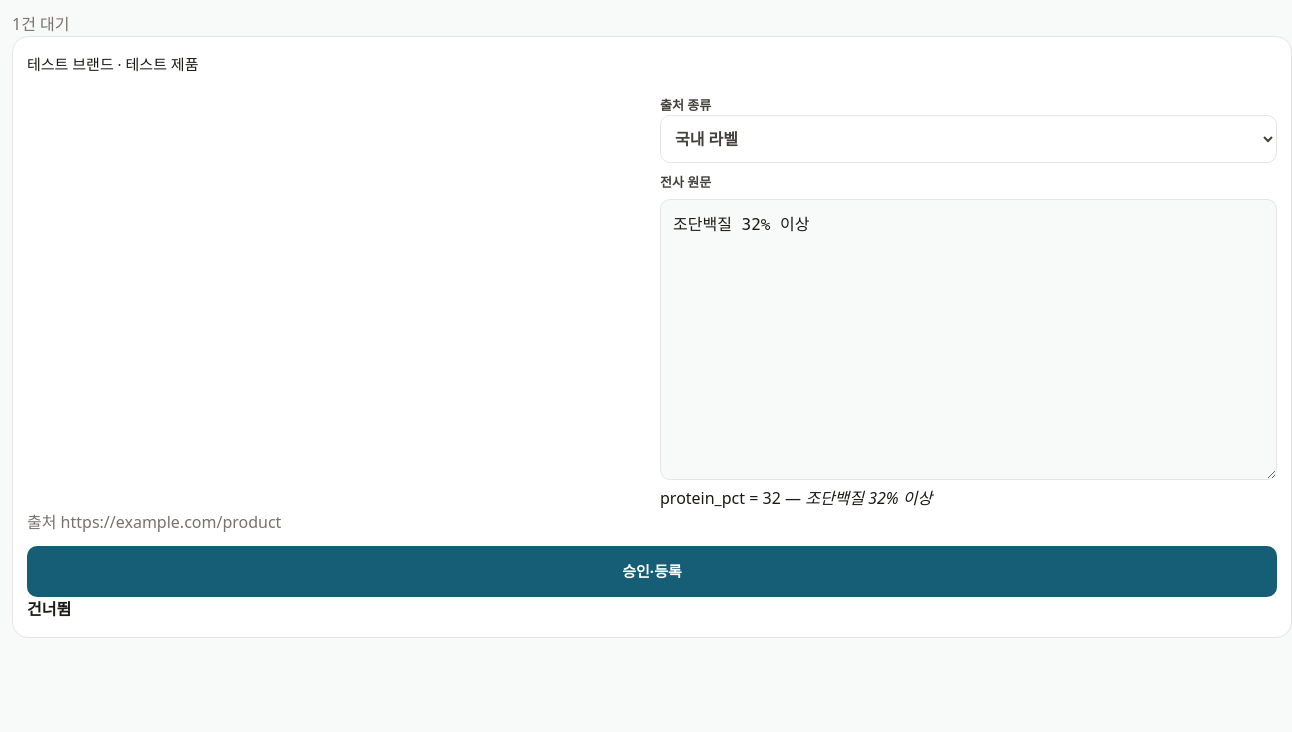
Test: LabelTranscribeClient 승인 실패 › 근거 적용이 실패하면 등록된 출처 id를 로그에 남긴다
Click the button "승인·등록" at x=652, y=572, box top-left (27, 546), bottom-right (1277, 597)
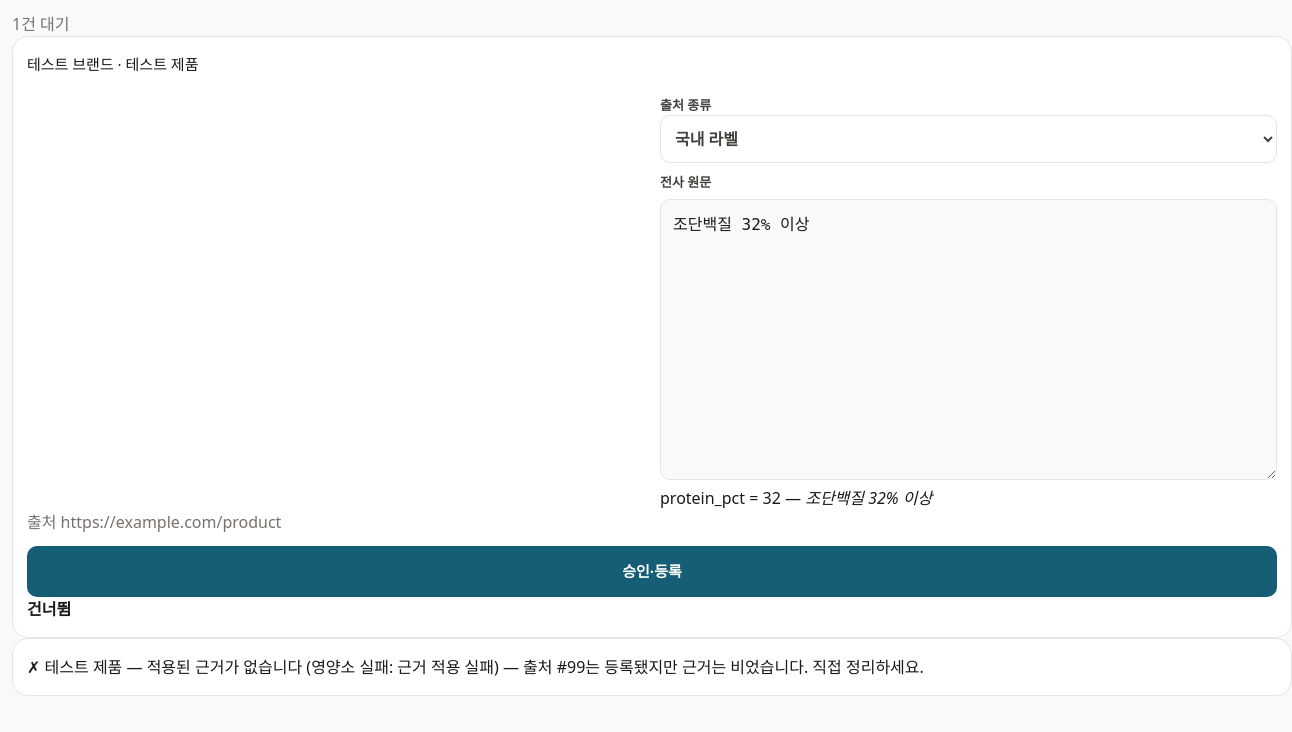
Expected: the message shows "출처 #99", top-left (27, 656), bottom-right (924, 678)
Expected: the message shows "근거 적용 실패", top-left (27, 656), bottom-right (924, 678)
